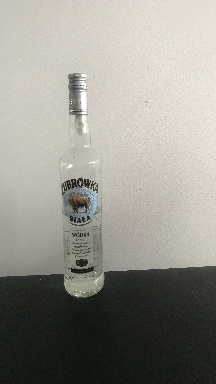butelka: (56, 69, 105, 301)
